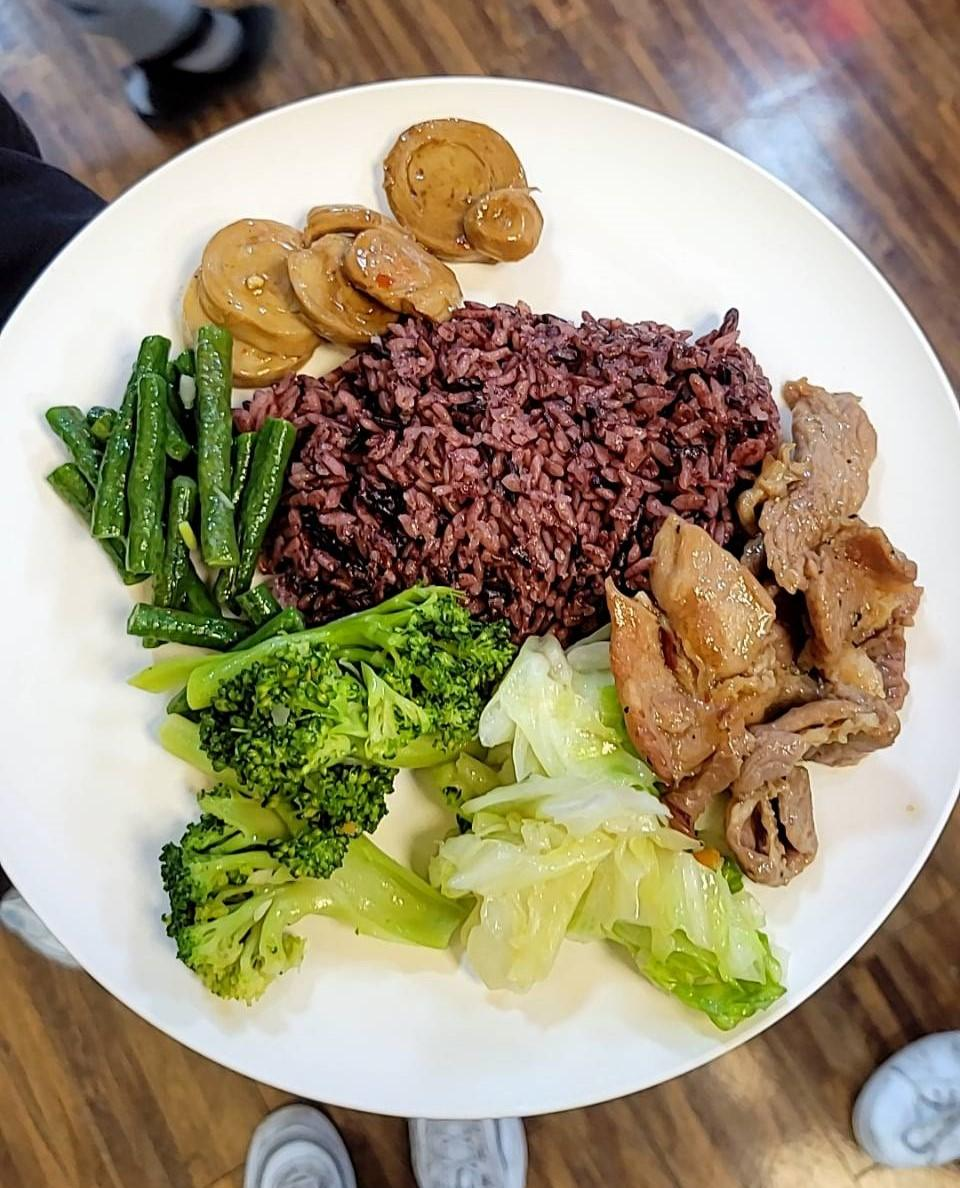big fried chicken leg: (3, 58, 960, 1153)
braised fish: (213, 298, 793, 661)
braised fish fillet: (141, 596, 505, 999), (466, 626, 785, 1019), (155, 98, 566, 380), (53, 323, 305, 651)
braised pork: (595, 368, 923, 887)
